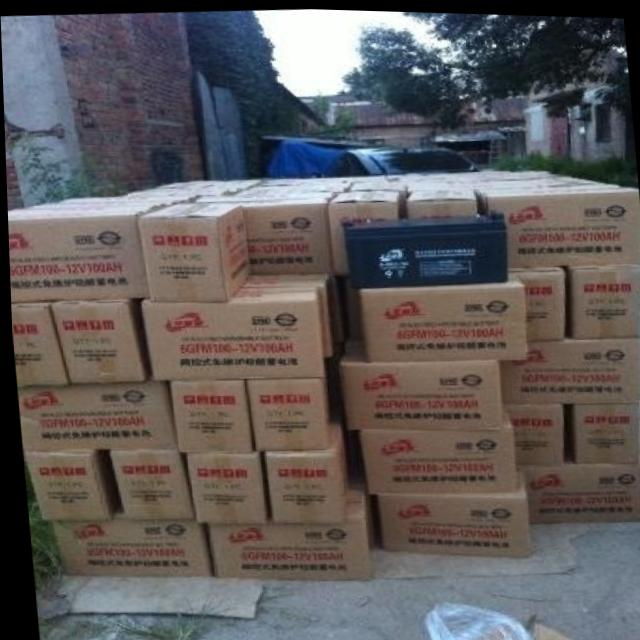box: (141, 286, 322, 378), (6, 203, 167, 304), (206, 487, 366, 577), (358, 276, 526, 361), (480, 179, 640, 265), (338, 344, 501, 428), (342, 206, 507, 286), (355, 412, 515, 492), (373, 472, 528, 554), (176, 193, 332, 274), (16, 381, 174, 454), (136, 203, 248, 301), (496, 335, 640, 403), (46, 518, 206, 576), (515, 447, 640, 521), (236, 273, 336, 355), (262, 424, 345, 519), (49, 300, 142, 384), (243, 375, 330, 452), (20, 451, 111, 521), (327, 189, 397, 273), (170, 379, 249, 453), (108, 450, 189, 519), (185, 452, 264, 521), (569, 260, 638, 335), (9, 299, 67, 387), (508, 262, 564, 338), (571, 398, 637, 461), (505, 402, 560, 464), (468, 170, 607, 187), (407, 186, 476, 216), (17, 196, 183, 206), (196, 184, 344, 193), (406, 175, 472, 189), (252, 177, 353, 185), (123, 187, 207, 196), (156, 179, 233, 188), (348, 178, 404, 189)
